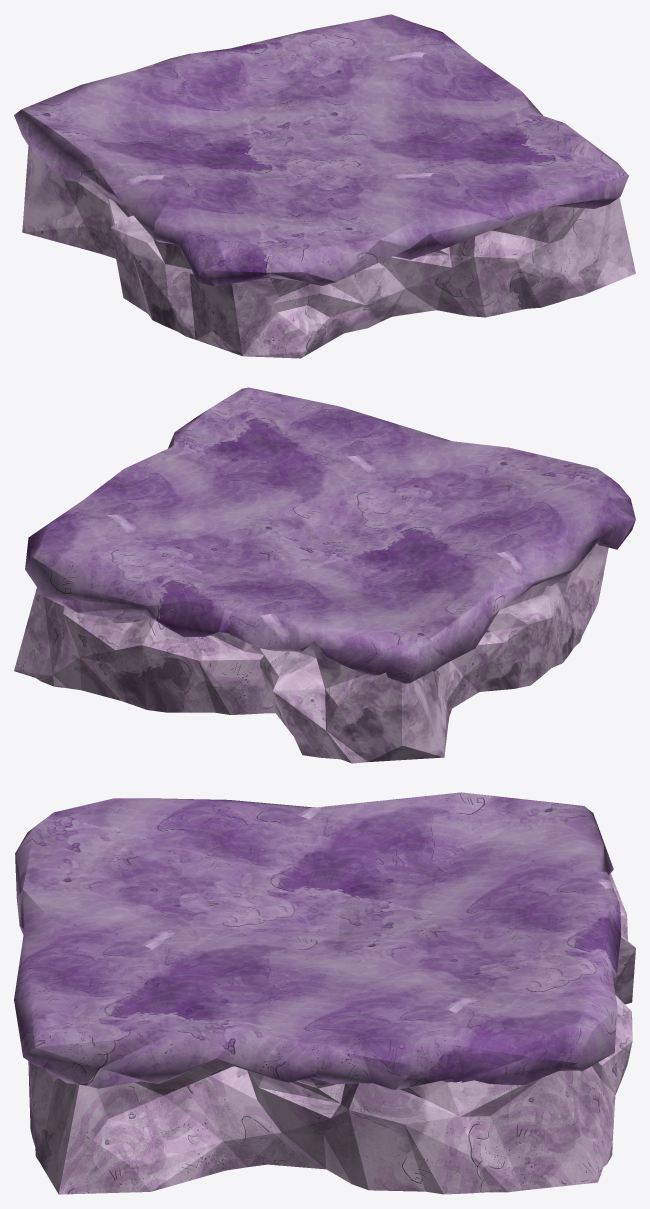
The model's file is entity95562.gltf.
3 views of the same model, one above another, from view 1: azimuth 30°, elevation 25°; view 2: azimuth 150°, elevation 25°; view 3: azimuth 270°, elevation 25° (orthographic). The views are drawn at different scales.
Visible parts, largest first — view 1: node_Terrain_Island_03 (2); view 2: node_Terrain_Island_03 (2); view 3: node_Terrain_Island_03 (2).
Part boxes in pixels (<box>): node_Terrain_Island_03 (2): <box>14,14,635,358</box>; node_Terrain_Island_03 (2): <box>14,387,635,763</box>; node_Terrain_Island_03 (2): <box>14,792,635,1194</box>.
Size of what is drawn, in the model's own units: 15.52 by 4.29 by 15.73.
